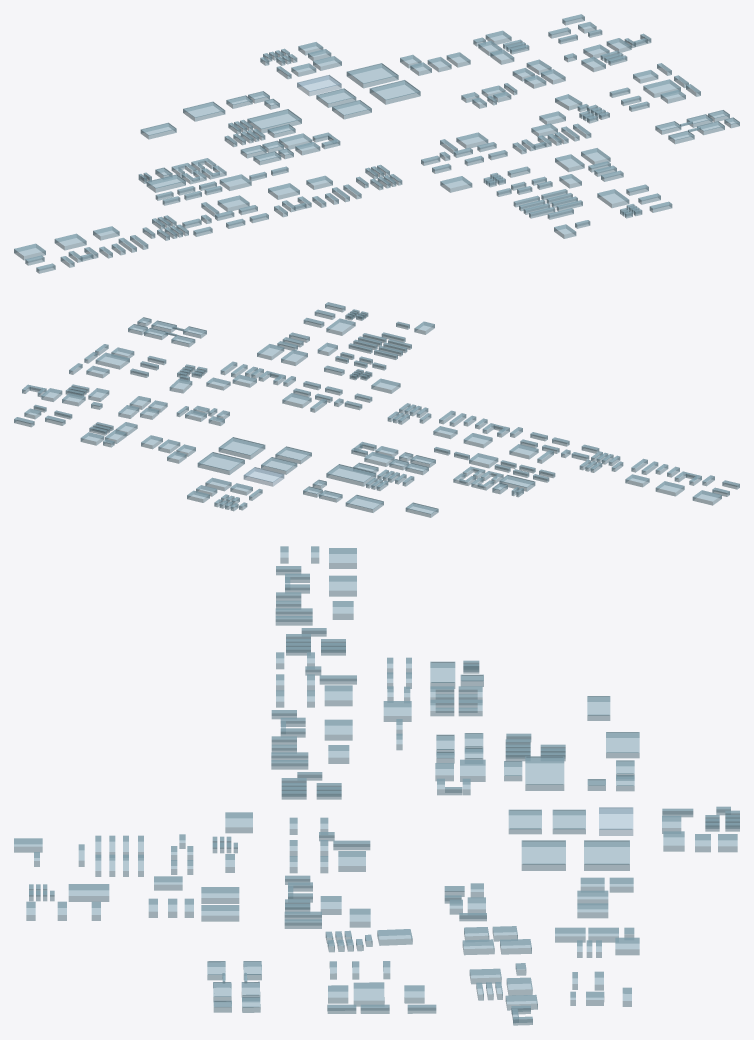
Rendered from LXWZ_yuanquxunichangjin.glb.
3 renders of one model, top to bottom at view 1: azimuth 30°, elevation 25°; view 2: azimuth 150°, elevation 25°; view 3: azimuth 270°, elevation 25°, orthographic. The views are drawn at different scales.
Bounding box in the file's own units: 3292 × 25.52 × 2134.
